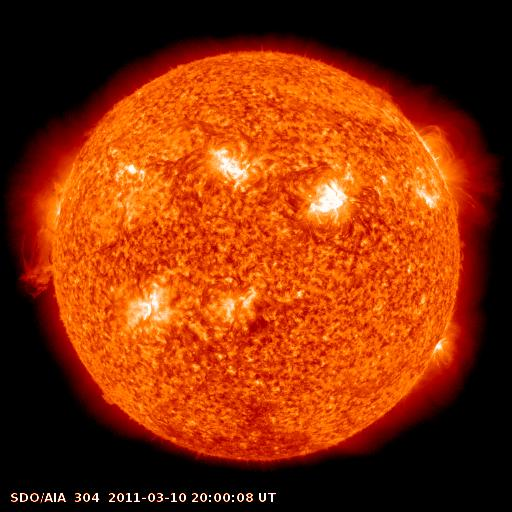prominence: (6, 215, 67, 311), (364, 75, 405, 110), (90, 382, 128, 418)
